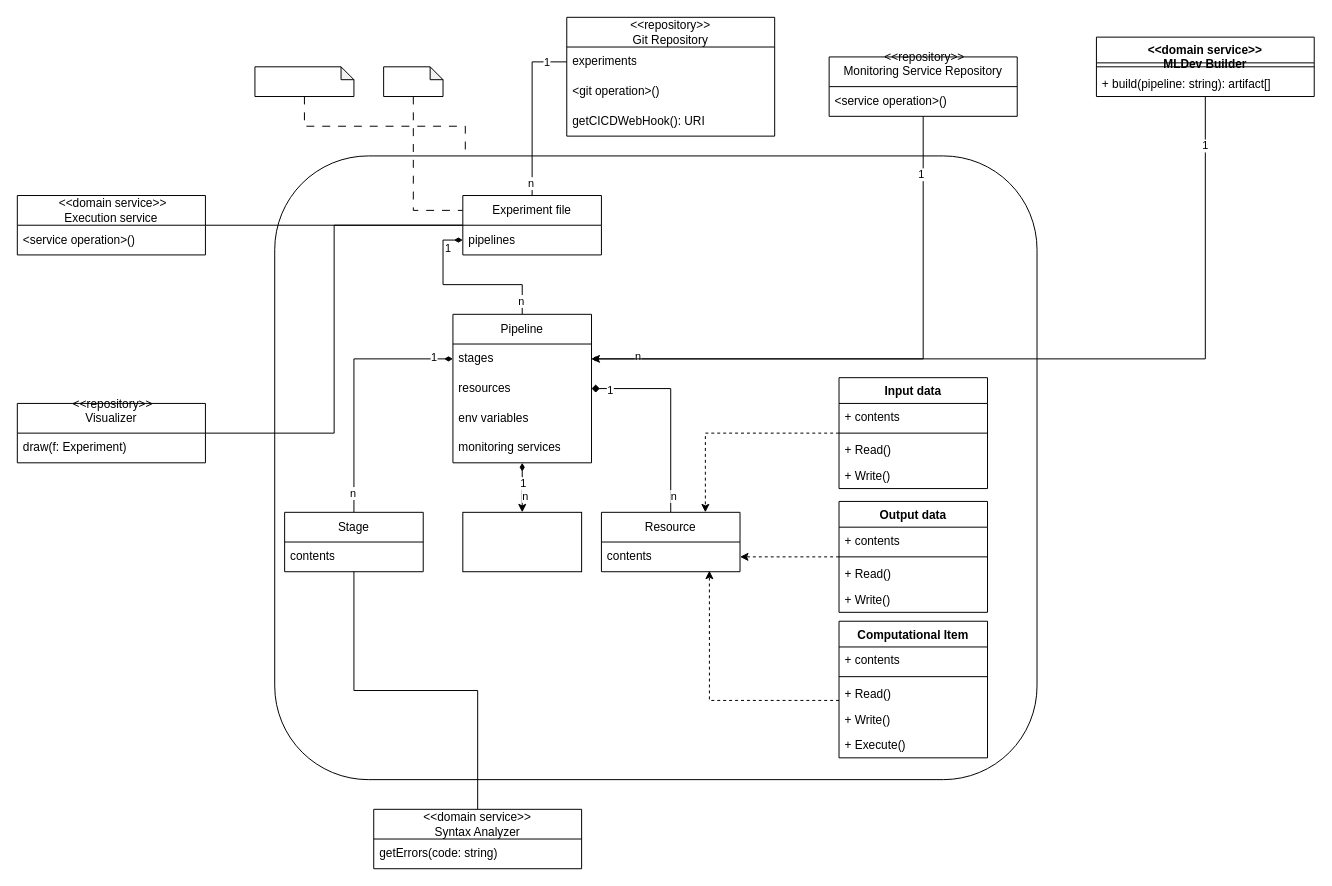
Image size: 1332x886. Some labels were removed from this diagram. Each missing label, with the centre of its shape:
aggregate boundary: [304,81]
Env Variable: [522,541]
root: [413,81]
